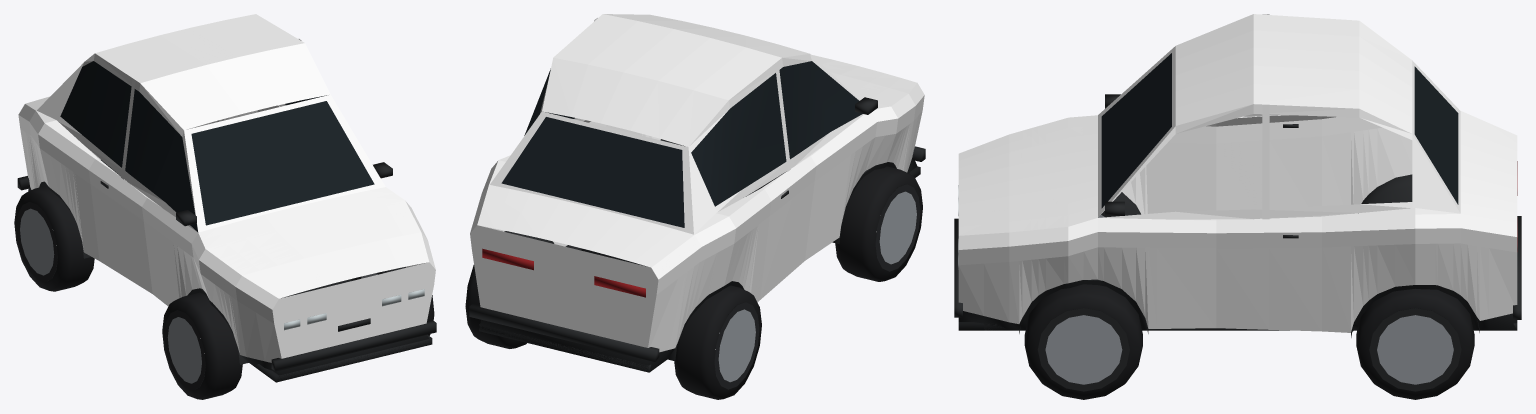
File: ridgeway_toco.glb
3 views of the same model, side by side, from view 1: azimuth 30°, elevation 25°; view 2: azimuth 150°, elevation 25°; view 3: azimuth 270°, elevation 25° (orthographic). The views are drawn at different scales.
Visible parts, largest first — view 1: Body_Paint, Body_Details, Mount_FrontLeft_Wheel_Details, Mount_RearLeft_Wheel_Details; view 2: Body_Paint, Body_Details, Mount_FrontLeft_Wheel_Details, Mount_RearLeft_Wheel_Details, Mount_RearRight_Wheel_Details; view 3: Body_Paint, Body_Details, Mount_FrontRight_Wheel_Details, Mount_RearRight_Wheel_Details.
Part boxes in pixels (x1,y1,x2,y2): Body_Paint: (18,14,435,362); Body_Details: (17,61,436,382); Mount_FrontLeft_Wheel_Details: (162,292,242,399); Mount_RearLeft_Wheel_Details: (14,186,94,291); Body_Paint: (470,14,924,352); Body_Details: (469,61,925,372); Mount_FrontLeft_Wheel_Details: (835,166,922,281); Mount_RearLeft_Wheel_Details: (674,285,761,399); Mount_RearRight_Wheel_Details: (465,265,526,348); Body_Paint: (958,14,1517,332); Body_Details: (954,53,1521,337); Mount_FrontRight_Wheel_Details: (1024,284,1142,399); Mount_RearRight_Wheel_Details: (1356,288,1474,399).
Bounding box in the file's own units: 1.89 × 2.02 × 3.64.
Materials: 2 (1 with a texture image).
